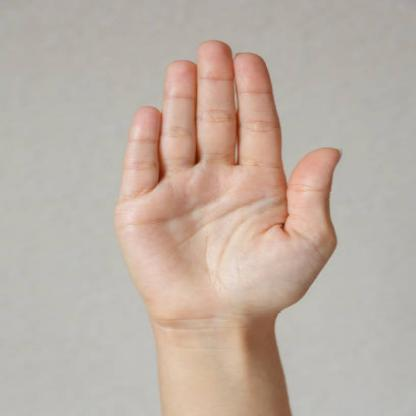stop: (114, 36, 344, 324)
